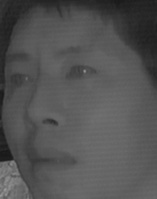eye: (59, 60, 99, 84), (5, 70, 35, 90)
mouth: (20, 141, 76, 175)
